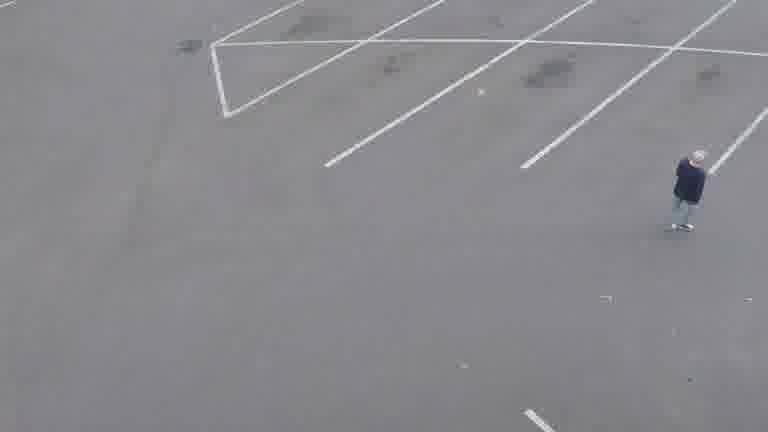bike: (668, 145, 712, 233)
